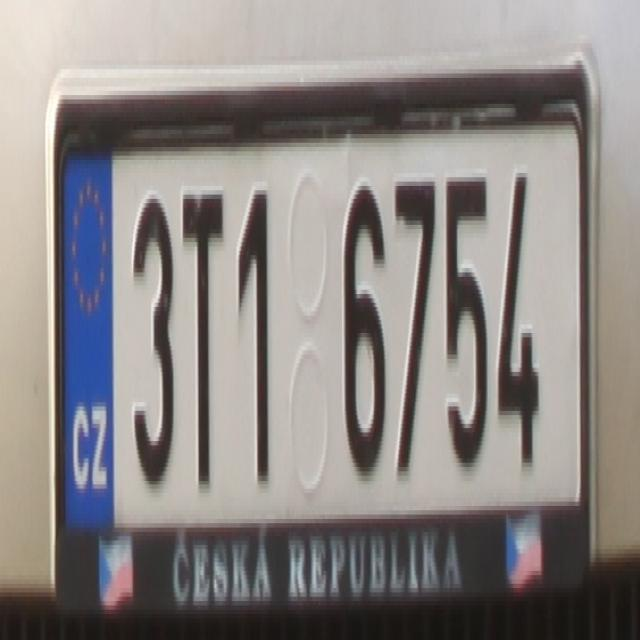1: (235, 164, 275, 480)
3: (132, 190, 174, 480)
4: (496, 169, 542, 480)
5: (446, 169, 490, 467)
6: (341, 182, 387, 476)
7: (392, 173, 438, 476)
T: (175, 182, 225, 488)
